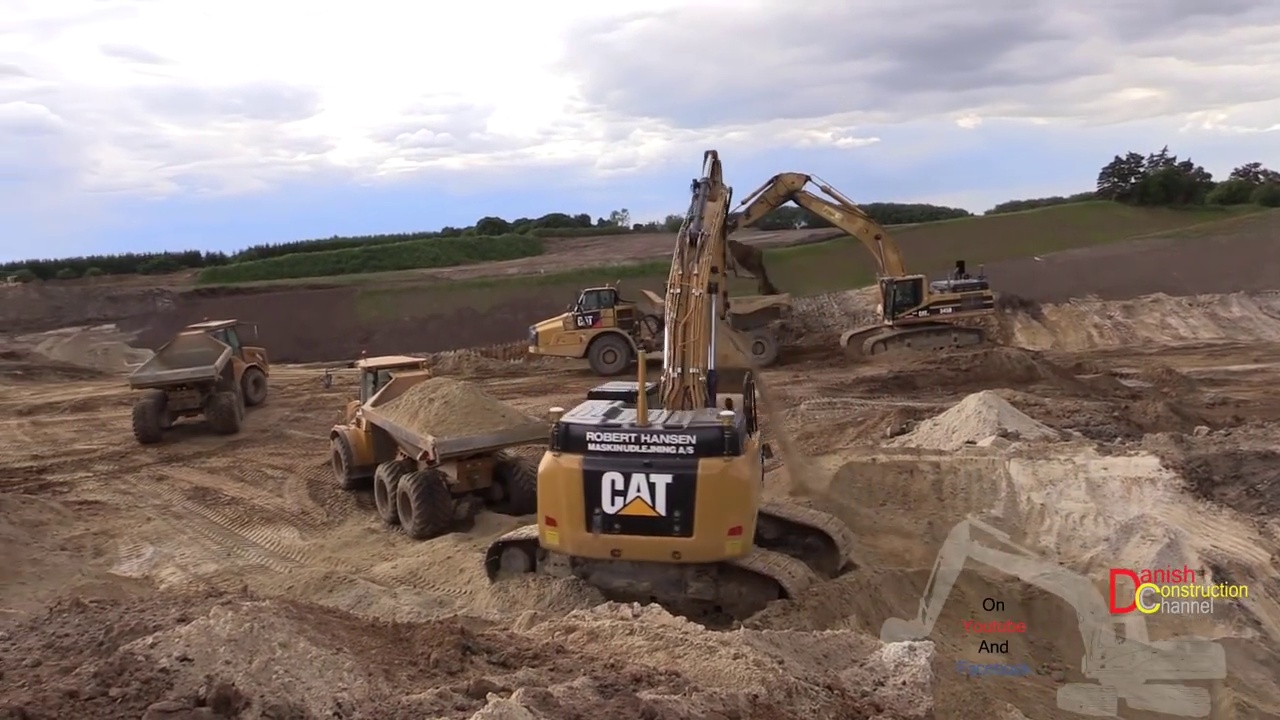dumper: (529, 286, 801, 371), (131, 317, 269, 442)
excavator: (484, 152, 854, 619), (722, 163, 996, 362), (324, 353, 543, 537)
